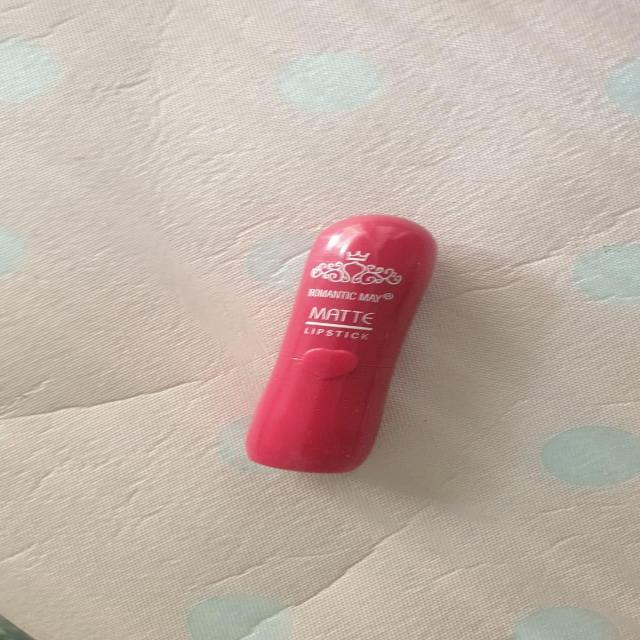lip stick: (236, 204, 449, 513)
